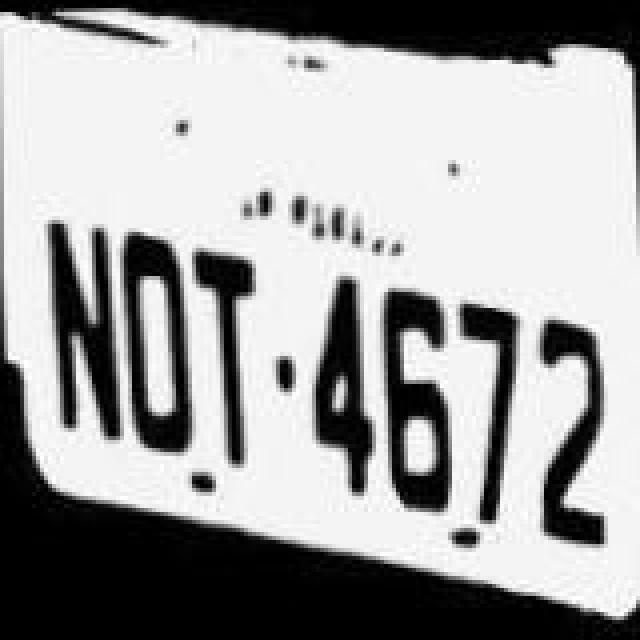2: (524, 312, 608, 560)
4: (302, 258, 378, 498)
6: (368, 278, 456, 518)
7: (448, 284, 528, 524)
N: (32, 198, 124, 458)
O: (112, 212, 196, 464)
T: (192, 234, 264, 474)
